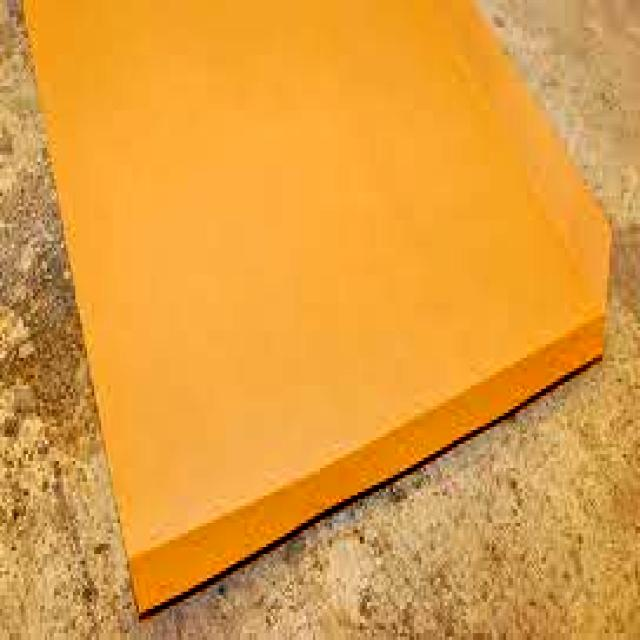Cardboard: (20, 0, 618, 628)
